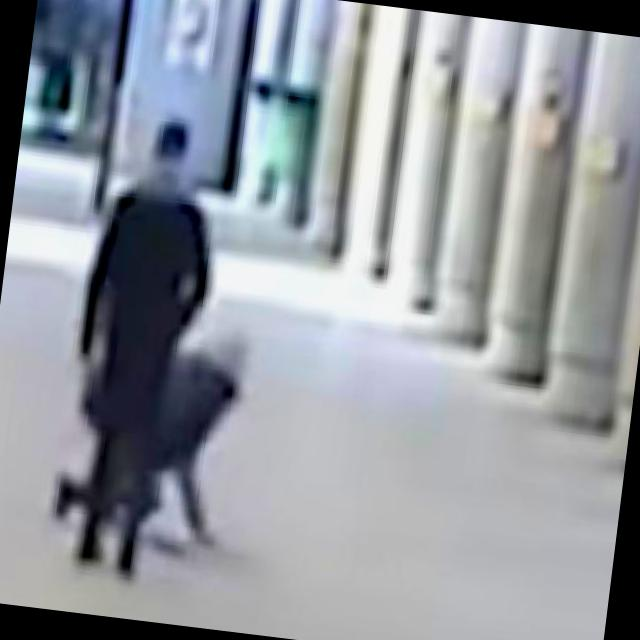Person: (52, 102, 222, 588)
